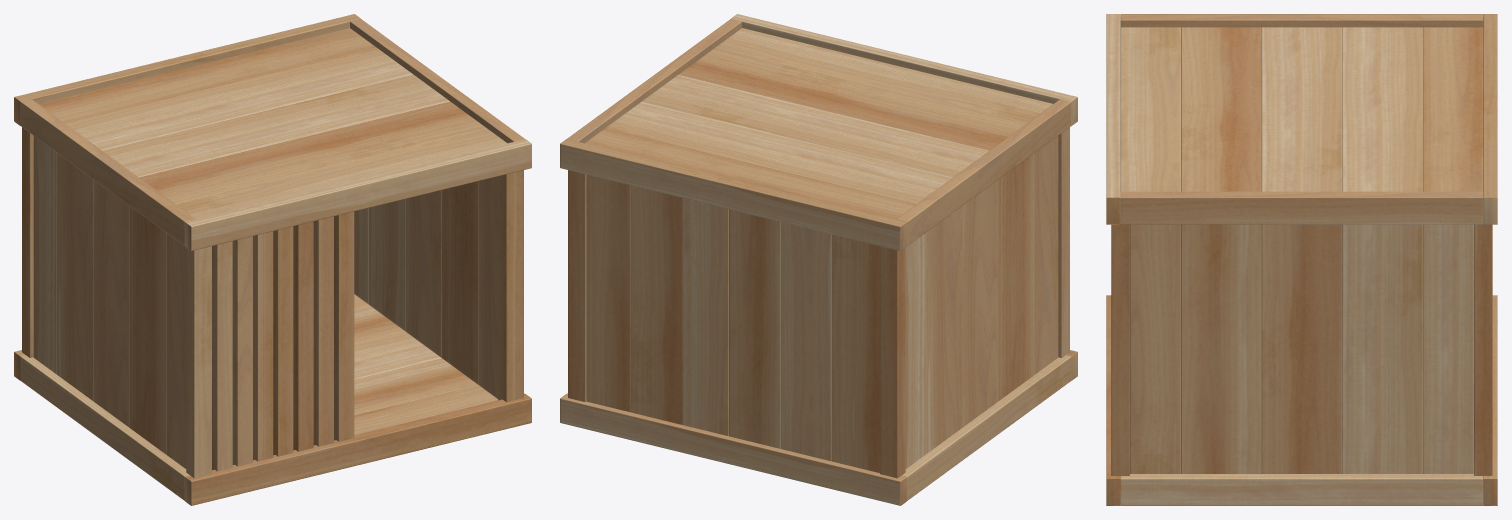
The model's file is MEGA_PACK_Pet__pet-386854_1_frame.glb.
3 views of the same model, side by side, from view 1: azimuth 30°, elevation 25°; view 2: azimuth 150°, elevation 25°; view 3: azimuth 270°, elevation 25° (orthographic). The views are drawn at different scales.
Visible parts, largest first — view 1: pet-386854_1_frame; view 2: pet-386854_1_frame; view 3: pet-386854_1_frame.
Boxes of the visible parts, x1,y1,x2,y2 form: pet-386854_1_frame: [14, 14, 531, 505]; pet-386854_1_frame: [560, 14, 1077, 505]; pet-386854_1_frame: [1106, 14, 1497, 505].
Bounding box in the file's own units: 0.51 × 0.4 × 0.46.
1 material, 1 textured.
